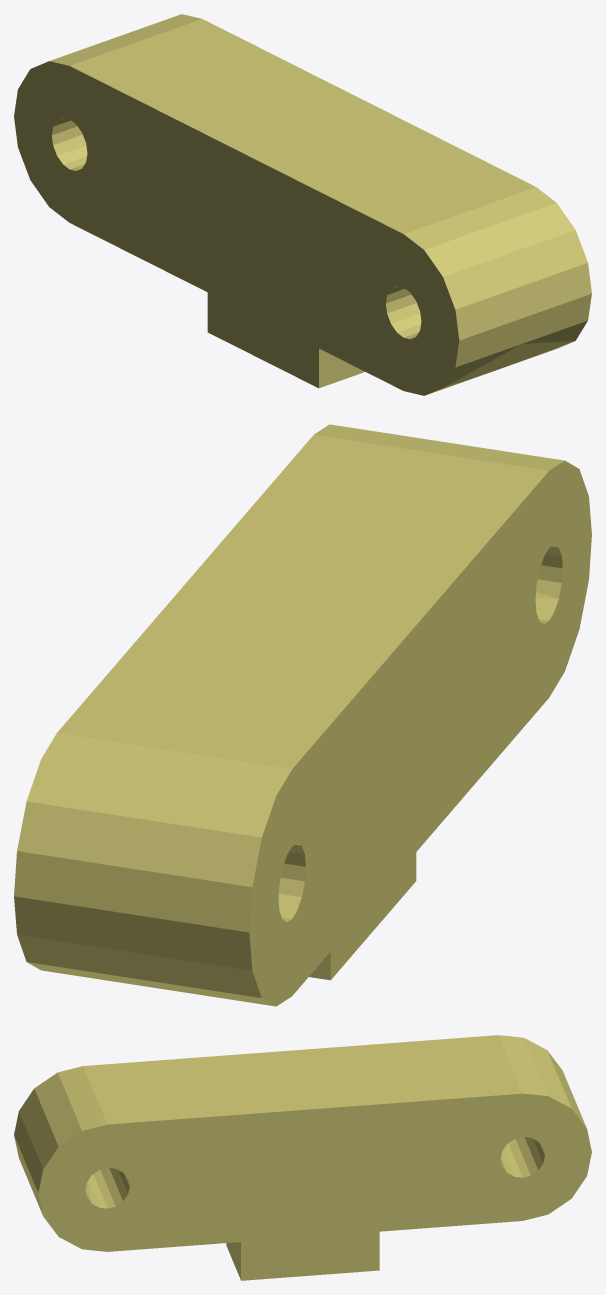
File: LARM_LITTLE3_LINK_mesh.dae
3 renders of one model, top to bottom at view 1: azimuth 30°, elevation 25°; view 2: azimuth 150°, elevation 25°; view 3: azimuth 270°, elevation 25°, orthographic. The views are drawn at different scales.
Parts seen in each view (by area): view 1: LARM_LITTLE3_LINK; view 2: LARM_LITTLE3_LINK; view 3: LARM_LITTLE3_LINK.
Part boxes in pixels (x1=…): LARM_LITTLE3_LINK: x1=14, y1=14, x2=591, y2=395; LARM_LITTLE3_LINK: x1=14, y1=424, x2=591, y2=1006; LARM_LITTLE3_LINK: x1=14, y1=1035, x2=591, y2=1280.
Bounding box in the file's own units: 0.0168 × 0.014 × 0.0411.
